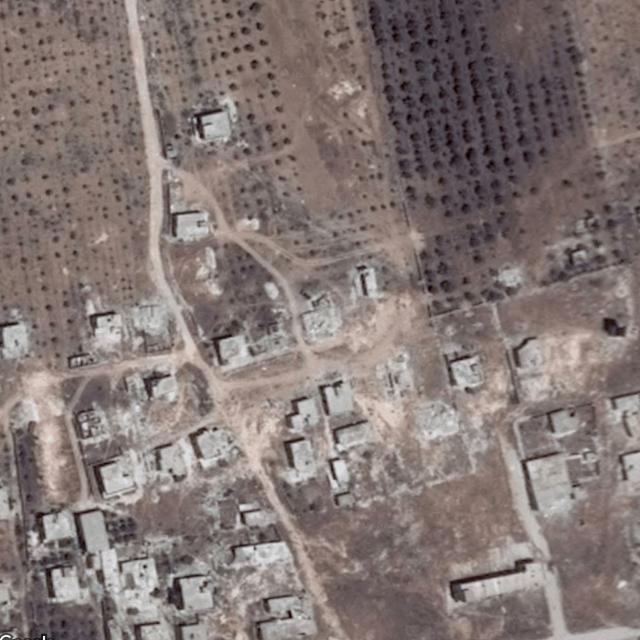damaged_building: (371, 351, 462, 444), (108, 369, 171, 440), (128, 297, 179, 353), (298, 290, 347, 340), (249, 303, 293, 352), (530, 484, 579, 517), (492, 262, 522, 288)
